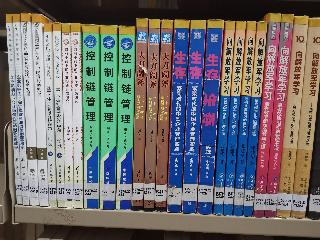book-spine: (275, 14, 308, 220), (262, 13, 295, 217), (254, 13, 282, 218), (195, 20, 224, 216), (292, 17, 320, 220), (232, 21, 258, 218), (181, 18, 207, 213), (214, 20, 237, 216), (244, 22, 267, 217), (19, 12, 41, 208), (168, 19, 190, 214), (153, 18, 174, 213), (225, 21, 246, 216), (29, 12, 49, 207), (115, 25, 135, 210), (142, 19, 161, 213), (97, 23, 116, 210), (12, 13, 30, 207), (5, 13, 23, 205), (82, 24, 100, 209), (132, 18, 149, 212), (42, 23, 58, 210), (68, 22, 84, 209), (60, 22, 75, 209), (51, 21, 65, 209)
